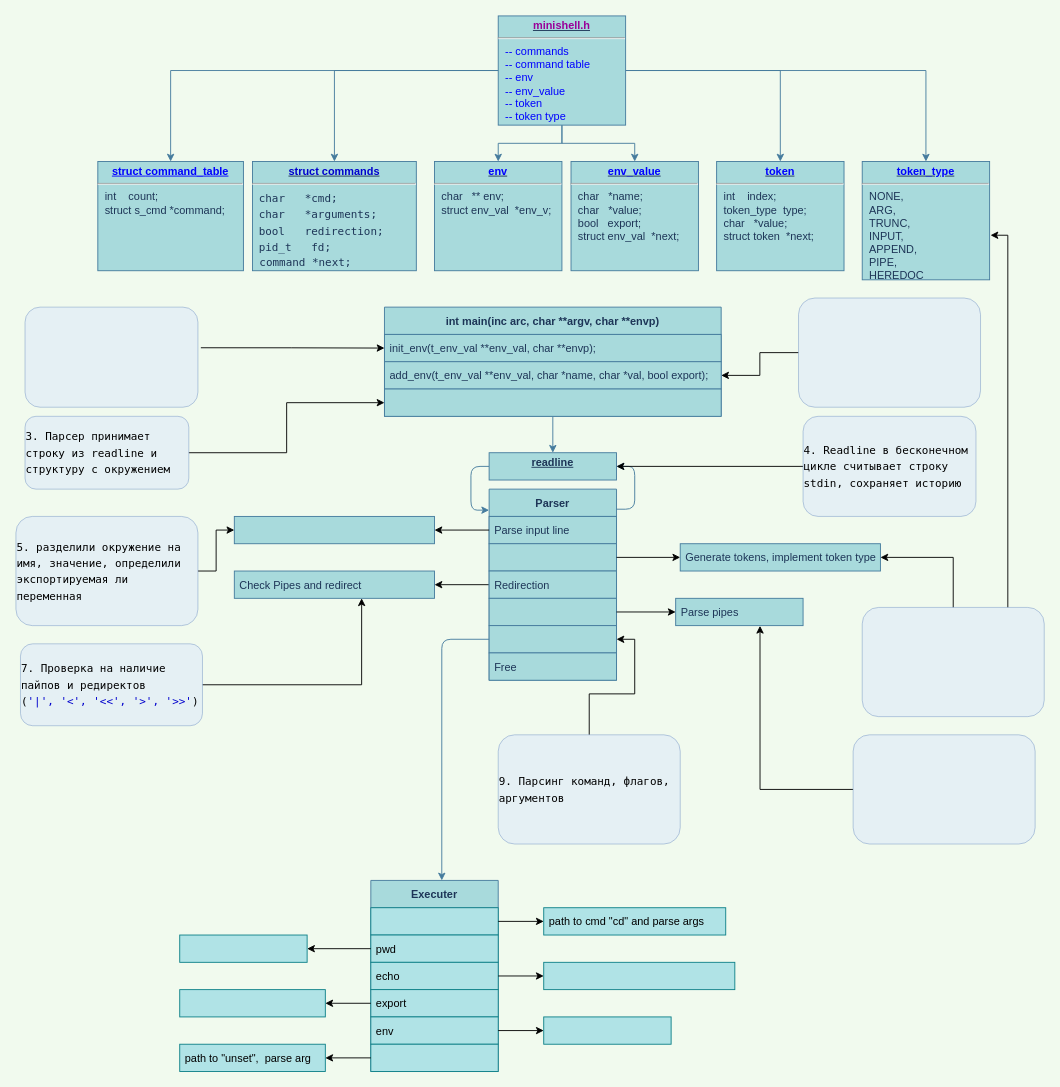
The diagram is 1060 pixels wide and 1087 high, and some of its shapes have lost their labels. Here are the shapes that lost their labels. From the top down, the centre of each, then its label:
[111,356]: 1. Инициализация структуры env_vars, в соответсвии с переменной окружения
[889,352]: 2. Записали окружение в структуру
[552,402]: parser(char *line, t_env *env);
[334,530]: Split args, remove spaces and quotes
[552,557]: Lexer
[552,611]: Pipex
[552,639]: Build-in
[952,662]: 6. разбить строку на токены, присвоить токенам тип
[943,789]: 8. Обработка выполнения команды одна за другой при наличии '|'
[434,921]: cd
[243,948]: path to cmd "pwd"
[639,975]: path to "echo", check flag, parse args
[252,1003]: path to "export", parse arg
[607,1030]: path to "env", parse arg
[434,1057]: unset
